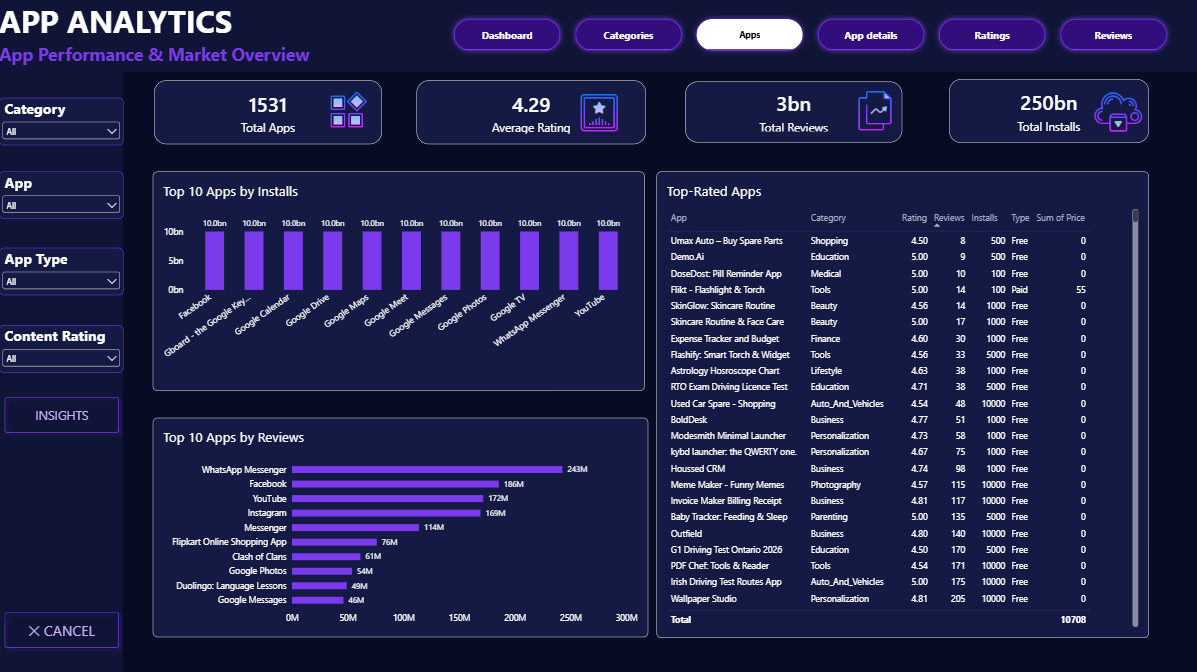

This screenshot's page, from the dashboard's own definition file:
{"tool":"powerbi","page":{"name":"Apps","canvas":[1920,1080],"ordinal":2},"visuals":[{"type":"textbox","title":"APP ANALYTICS","box":[0,0,1920,116.9],"z":0},{"type":"shape","box":[0,115.8,198.3,964.2],"z":1000},{"type":"card","fields":{"Values":["google_play_analysis google_play_apps.Total Apps"]},"box":[247.5,130,365,102.5],"z":2000},{"type":"card","fields":{"Values":["google_play_analysis google_play_apps.Average Rating"]},"box":[667.5,130,367.5,102.5],"z":3000},{"type":"card","fields":{"Values":["google_play_analysis google_play_apps.Total Reviews"]},"box":[1097.5,132.5,347.5,97.5],"z":4000},{"type":"card","fields":{"Values":["google_play_analysis google_play_apps.Total Installs"]},"box":[1520,127.5,320,102.5],"z":5000},{"type":"columnChart","title":"Top 10 Apps by Installs","fields":{"Category":["google_play_analysis google_play_apps.App"],"Y":["Sum(google_play_analysis google_play_apps.Installs)"]},"box":[246.9,275.9,787.6,351.2],"z":6000},{"type":"clusteredBarChart","title":"Top 10 Apps by Reviews","fields":{"Category":["google_play_analysis google_play_apps.App"],"Y":["Sum(google_play_analysis google_play_apps.Reviews)"]},"box":[246,670,792.9,351.2],"z":7000},{"type":"tableEx","title":"Top-Rated Apps","fields":{"Values":["google_play_analysis google_play_apps.App","google_play_analysis google_play_apps.Category","google_play_analysis google_play_apps.Rating","google_play_analysis google_play_apps.Reviews","google_play_analysis google_play_apps.Installs","google_play_analysis google_play_apps.Type","Sum(google_play_analysis google_play_apps.Price)"]},"box":[1052,276,788,746],"z":8000},{"type":"slicer","fields":{"Values":["google_play_analysis google_play_apps.Category"]},"box":[0,157.5,199.1,76],"z":9000},{"type":"slicer","fields":{"Values":["google_play_analysis google_play_apps.App"]},"box":[0,275,199.1,76],"z":10000},{"type":"slicer","fields":{"Values":["google_play_analysis google_play_apps.Content Rating"]},"box":[0,522.5,199.1,76],"z":11000},{"type":"pageNavigator","box":[720.2,23.5,1161.8,67],"z":12000},{"type":"slicer","fields":{"Values":["google_play_analysis google_play_apps.Type"]},"box":[0,397.5,199.1,76],"z":13000},{"type":"image","box":[520,140,75,77.5],"z":14000},{"type":"image","box":[1742.5,142.5,97.5,77.5],"z":15000},{"type":"image","box":[1357.5,140,87.5,77.5],"z":16000},{"type":"image","box":[917.5,142.5,85,80],"z":17000},{"type":"actionButton","title":"INSIGHTS","box":[0,628,201,74.9],"z":18000},{"type":"actionButton","title":"INSIGHTS","box":[0,973,201,74.9],"z":19000}]}

Visuals, with their boxes in screenshot pixels (x1, y1, x2, y2), scaled from the page's 1920x1080 canvas onto the 1197x672 screenshot:
"APP ANALYTICS" textbox: bbox=(0, 0, 1196, 73)
shape: bbox=(0, 72, 124, 671)
card - google_play_analysis google_play_apps.Total Apps: bbox=(154, 81, 382, 145)
card - google_play_analysis google_play_apps.Average Rating: bbox=(416, 81, 645, 145)
card - google_play_analysis google_play_apps.Total Reviews: bbox=(684, 82, 901, 143)
card - google_play_analysis google_play_apps.Total Installs: bbox=(948, 79, 1147, 143)
"Top 10 Apps by Installs" columnChart: bbox=(154, 172, 645, 390)
"Top 10 Apps by Reviews" clusteredBarChart: bbox=(153, 417, 648, 635)
"Top-Rated Apps" tableEx: bbox=(656, 172, 1147, 636)
slicer - google_play_analysis google_play_apps.Category: bbox=(0, 98, 124, 145)
slicer - google_play_analysis google_play_apps.App: bbox=(0, 171, 124, 218)
slicer - google_play_analysis google_play_apps.Content Rating: bbox=(0, 325, 124, 372)
pageNavigator: bbox=(449, 15, 1173, 56)
slicer - google_play_analysis google_play_apps.Type: bbox=(0, 247, 124, 295)
image: bbox=(324, 87, 371, 135)
image: bbox=(1086, 89, 1147, 137)
image: bbox=(846, 87, 901, 135)
image: bbox=(572, 89, 625, 138)
"INSIGHTS" actionButton: bbox=(0, 391, 125, 437)
"INSIGHTS" actionButton: bbox=(0, 605, 125, 652)
